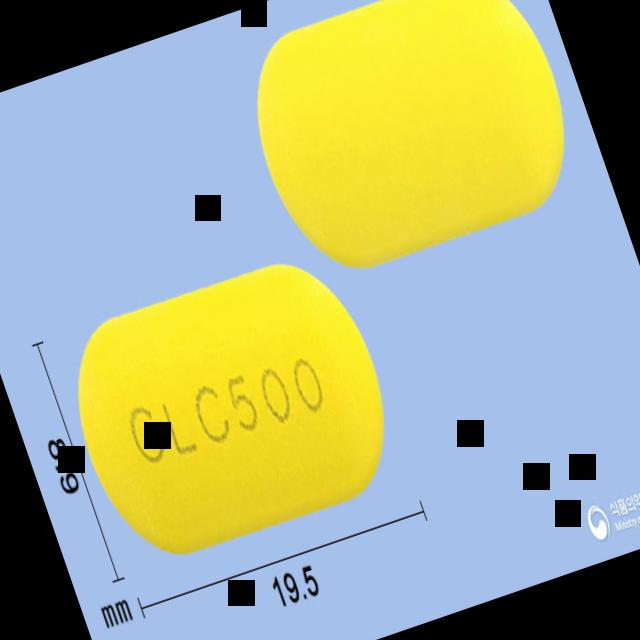CLARIUM: (48, 240, 414, 577), (227, 0, 592, 287)
